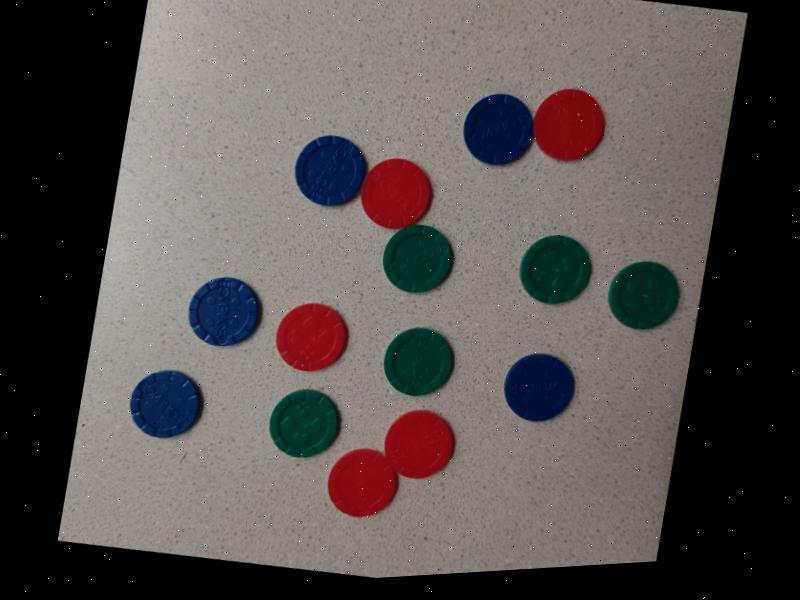Blue_Token: (277, 118, 376, 224), (177, 262, 277, 364), (458, 80, 550, 182), (118, 355, 219, 447), (493, 340, 583, 439)
Green_Token: (593, 243, 696, 344), (367, 311, 465, 410), (371, 208, 463, 309), (502, 224, 601, 317), (257, 375, 352, 468)
Red_Token: (370, 393, 464, 497), (320, 436, 415, 534), (523, 78, 614, 178), (352, 142, 440, 235), (268, 292, 362, 375)
